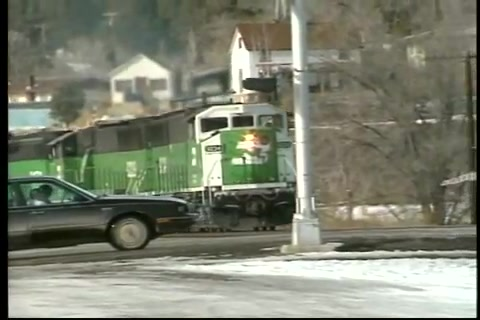train: (8, 92, 299, 232)
